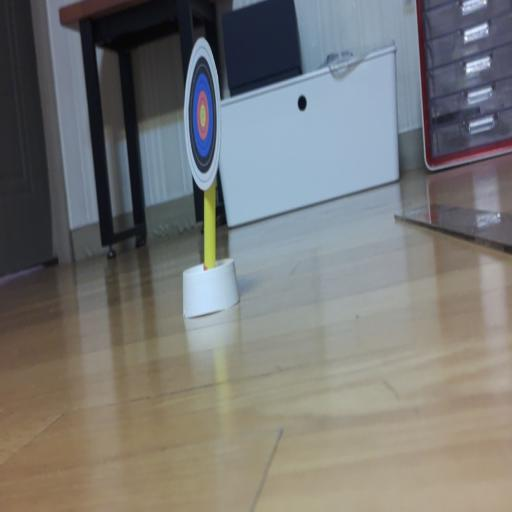target: (184, 38, 220, 191)
